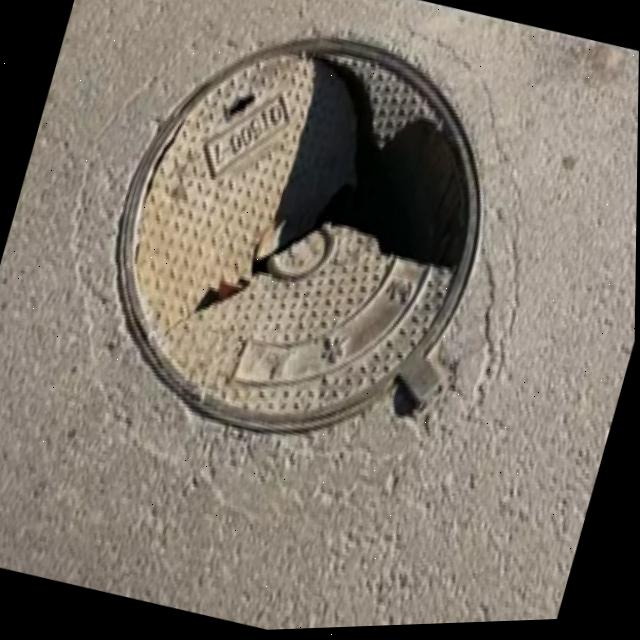manhole: (71, 0, 529, 471)
